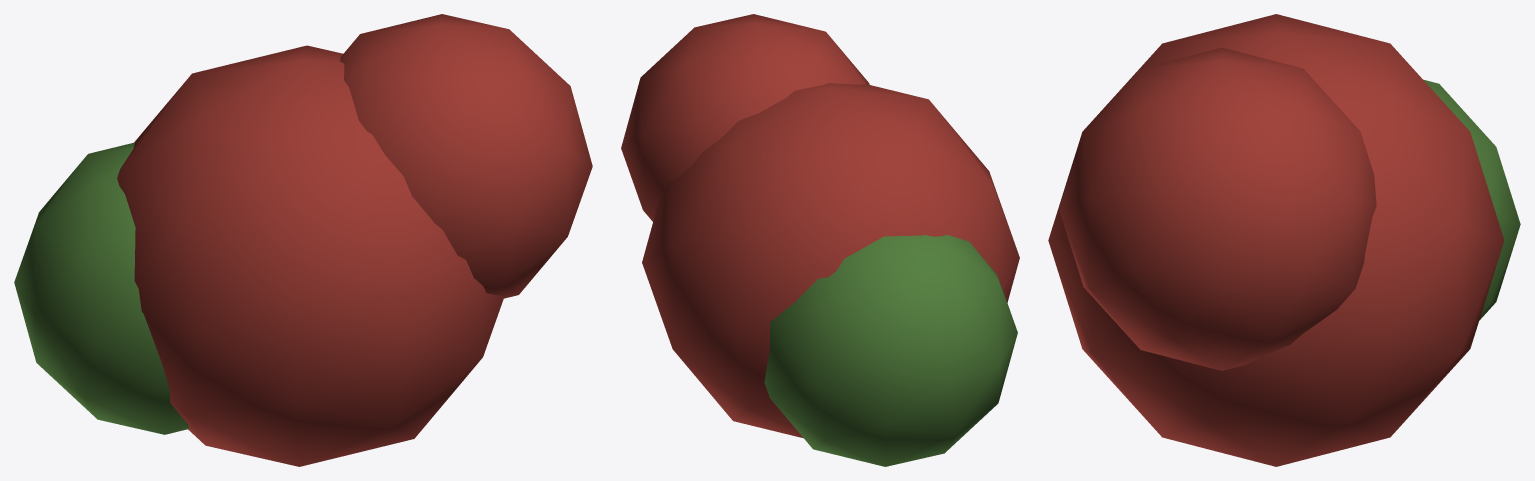
File: shrub-red.obj
3 renders of one model, left to right at view 1: azimuth 30°, elevation 25°; view 2: azimuth 150°, elevation 25°; view 3: azimuth 270°, elevation 25°, orthographic. The views are drawn at different scales.
Visible parts, largest first — view 1: shrub-red_0, shrub-red_1, shrub-red_2; view 2: shrub-red_0, shrub-red_2, shrub-red_1; view 3: shrub-red_0, shrub-red_1, shrub-red_2.
Boxes of the visible parts, x1=… form: shrub-red_0: x1=117, y1=45, x2=504, y2=466; shrub-red_1: x1=340, y1=14, x2=592, y2=298; shrub-red_2: x1=14, y1=142, x2=189, y2=434; shrub-red_0: x1=642, y1=83, x2=1019, y2=438; shrub-red_2: x1=764, y1=235, x2=1017, y2=466; shrub-red_1: x1=621, y1=14, x2=869, y2=221; shrub-red_0: x1=1048, y1=14, x2=1504, y2=466; shrub-red_1: x1=1059, y1=47, x2=1376, y2=370; shrub-red_2: x1=1423, y1=79, x2=1520, y2=320.
Bounding box in the file's own units: 1.07 × 0.9 × 0.87.
